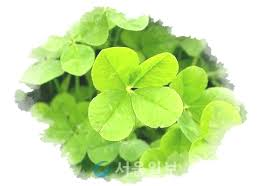4-clover: (90, 47, 185, 138)
